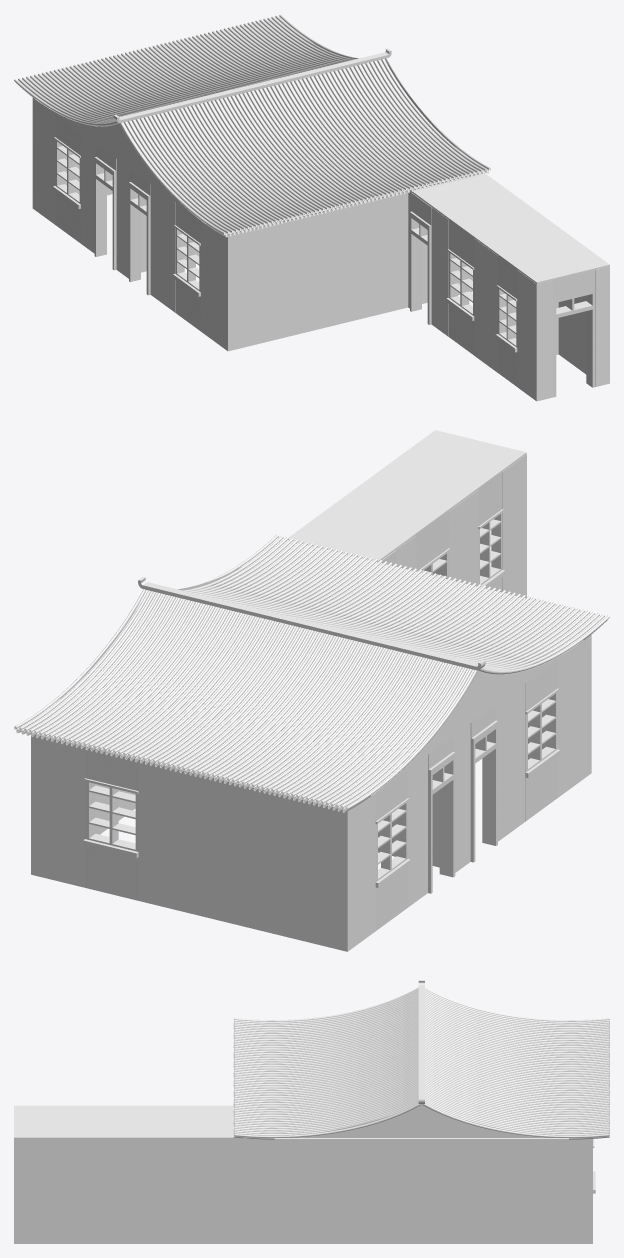
The picture shows the model from 3 angles, top to bottom: view 1: azimuth 30°, elevation 25°; view 2: azimuth 150°, elevation 25°; view 3: azimuth 270°, elevation 25°; orthographic projection. The views are drawn at different scales.
Parts seen in each view (by area): view 1: Geom3D_ (×87), Geom3D_房2; view 2: Geom3D_ (×85), Geom3D_房2; view 3: Geom3D_ (×137), Geom3D_房2.
Boxes of the visible parts, left/top/right/bottom form: Geom3D_ (×87): left=14, top=42, right=609, bottom=401; Geom3D_房2: left=410, top=173, right=609, bottom=283; Geom3D_ (×85): left=14, top=454, right=609, bottom=951; Geom3D_房2: left=288, top=430, right=526, bottom=562; Geom3D_ (×137): left=14, top=984, right=609, bottom=1243; Geom3D_房2: left=14, top=1105, right=243, bottom=1138.
Size of the model in its own units: 7.35 by 4.22 by 15.44.
Materials: 4 (1 with a texture image).
